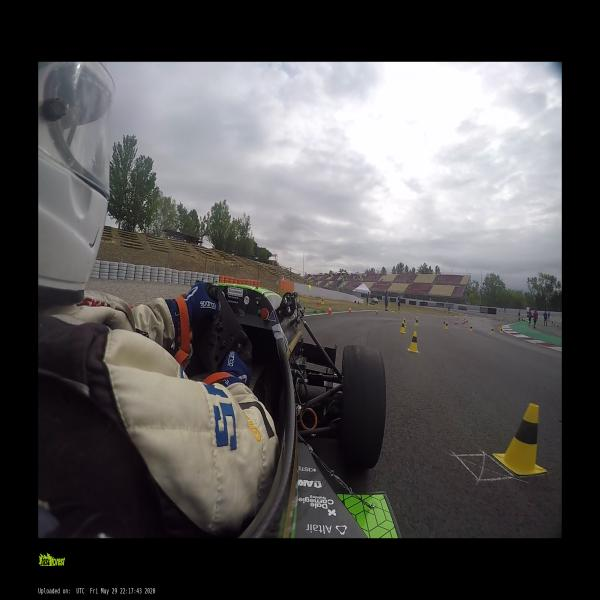orange_cone: (327, 306, 332, 315), (317, 298, 320, 306), (348, 307, 351, 314), (375, 309, 378, 315)
yellow_cone: (493, 404, 551, 476), (407, 331, 419, 353), (399, 321, 406, 333), (402, 318, 406, 327), (468, 325, 473, 332), (414, 318, 418, 326), (444, 322, 448, 329), (490, 327, 494, 334), (499, 327, 503, 334), (321, 298, 324, 305), (499, 325, 501, 330)
